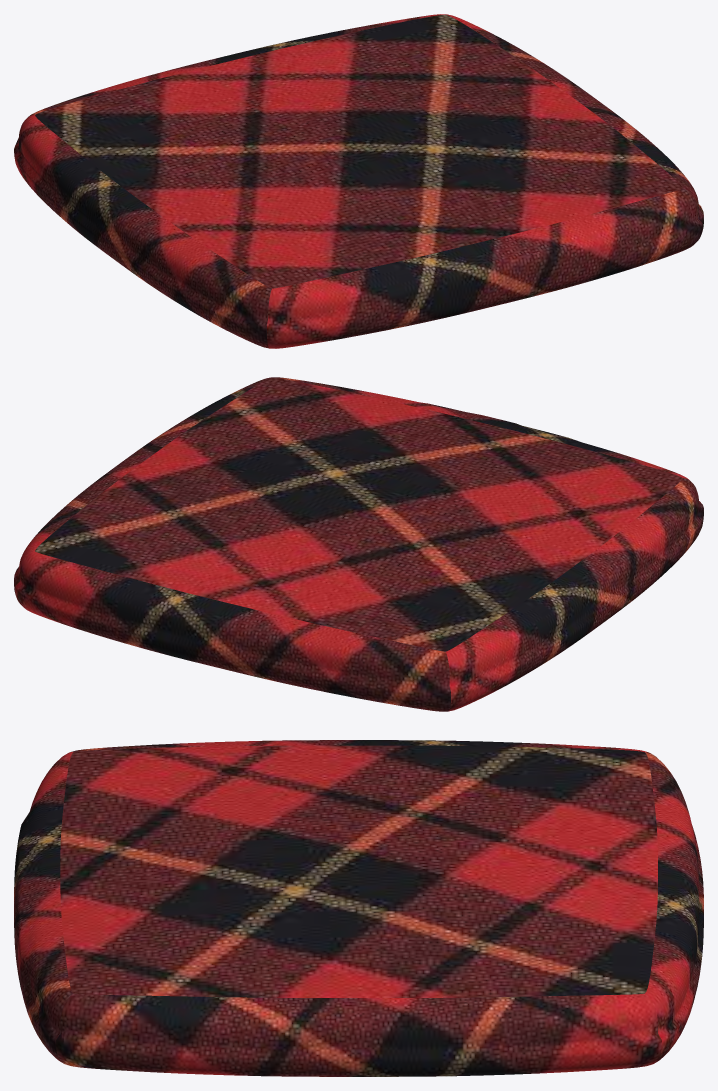
The model's file is box_lid_red.gltf.
3 views of the same model, one above another, from view 1: azimuth 30°, elevation 25°; view 2: azimuth 150°, elevation 25°; view 3: azimuth 270°, elevation 25° (orthographic). The views are drawn at different scales.
Parts seen in each view (by area): view 1: 001_Cube.002; view 2: 001_Cube.002; view 3: 001_Cube.002.
Part boxes in pixels (x1,y1,x2,y2): 001_Cube.002: (14, 14, 703, 348); 001_Cube.002: (14, 377, 703, 711); 001_Cube.002: (14, 740, 703, 1076).
Bounding box in the file's own units: 0.4805 × 0.066 × 0.4805.
1 material, 1 textured.
